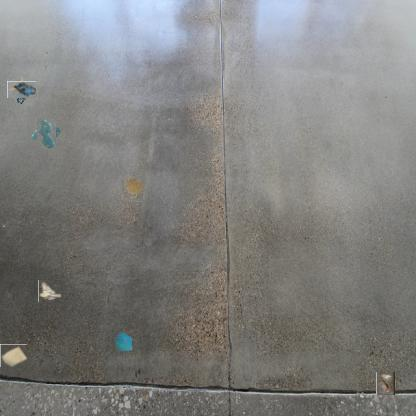dirty: (0, 344, 27, 367), (38, 280, 63, 302), (10, 78, 33, 101), (375, 373, 397, 394), (114, 331, 134, 353)
liquid: (33, 122, 59, 146), (122, 179, 145, 201)
